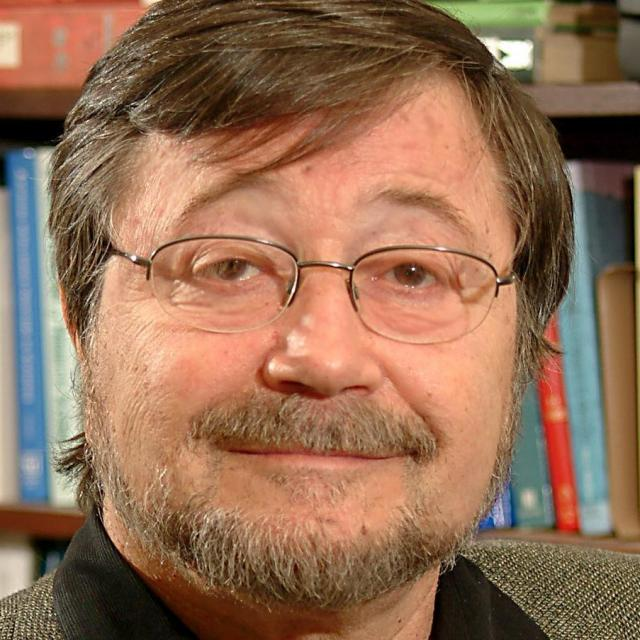surprised: (75, 104, 531, 598)
